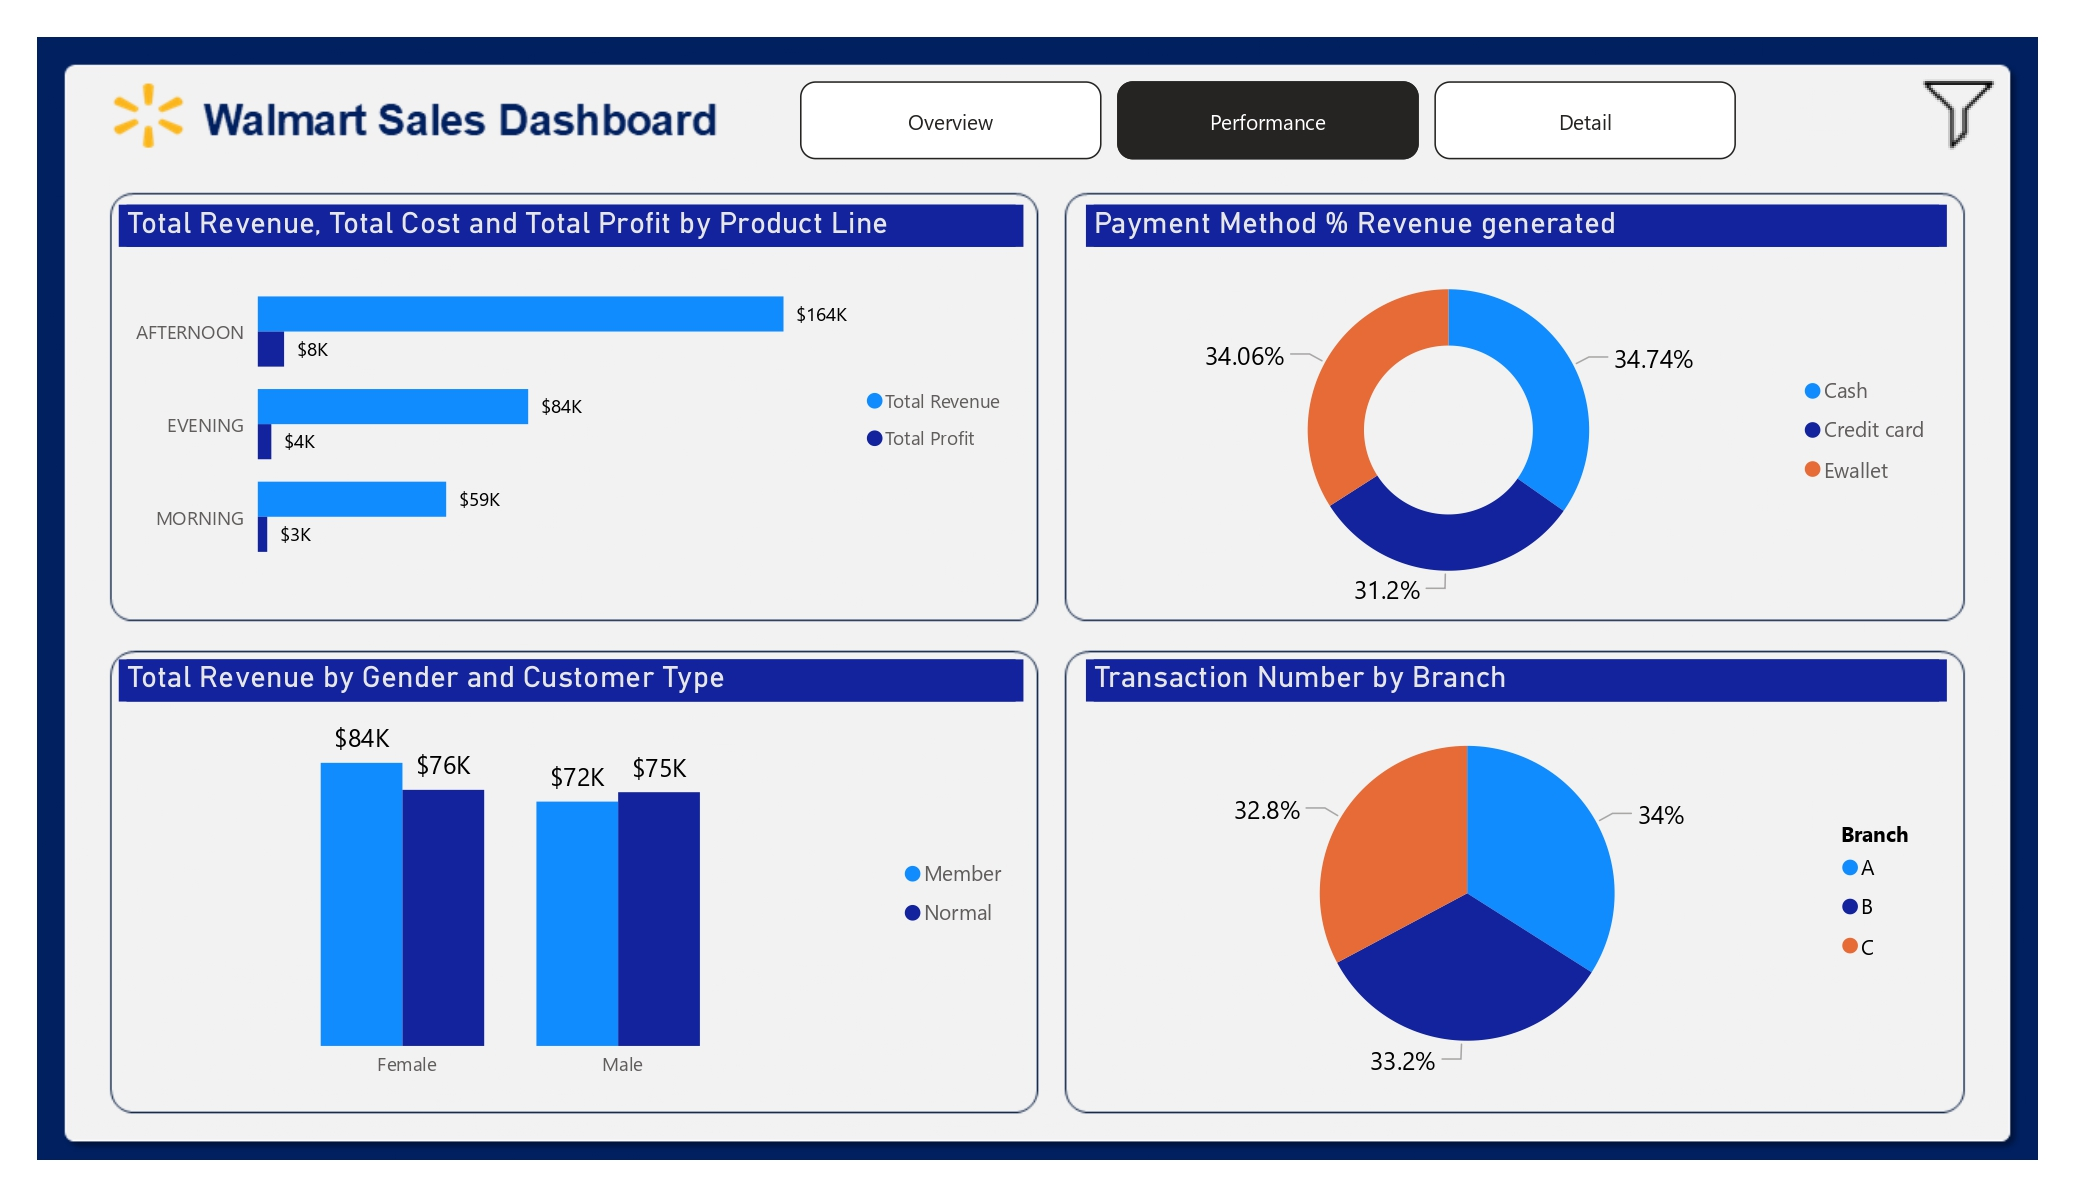

What the dashboard file says about the page in this screenshot:
{"tool":"powerbi","page":{"name":"Performance","canvas":[1280,720],"ordinal":1},"visuals":[{"type":"pageNavigator","box":[488.3,27.8,599.7,50.1],"z":0},{"type":"clusteredBarChart","title":"Total Revenue, Total Cost and Total Profit by Product Line","fields":{"Category":["walmart_sales_analysis_db ws.Period_of_day"],"Y":["_Measure.Total Revenue","_Measure.Total Profit"]},"box":[51.5,106.7,579.1,252.8],"z":2000},{"type":"donutChart","title":"Payment Method % Revenue generated","fields":{"Category":["walmart_sales_analysis_db ws.payment_method"],"Y":["_Measure.Total Revenue"]},"box":[671.2,106.7,550.9,266.3],"z":3000},{"type":"pieChart","fields":{"Y":["_Measure.Transaction Number"],"Category":["walmart_sales_analysis_db ws.Branch"]},"box":[671.2,397.5,550.9,277.3],"z":4000},{"type":"clusteredColumnChart","title":"Total Revenue by Gender and Customer Type ","fields":{"Category":["walmart_sales_analysis_db ws.Gender"],"Y":["_Measure.Total Revenue"],"Series":["walmart_sales_analysis_db ws.Customer_type"]},"box":[51.5,397.5,579.1,277.3],"z":5001},{"type":"actionButton","box":[1176.7,19.6,83.4,58.9],"z":5002}]}

Visuals, with their boxes in screenshot pixels (x1, y1, x2, y2):
pageNavigator: x1=800, y1=81, x2=1738, y2=159
"Total Revenue, Total Cost and Total Profit by Product Line" clusteredBarChart: x1=118, y1=204, x2=1023, y2=599
"Payment Method % Revenue generated" donutChart: x1=1086, y1=204, x2=1947, y2=620
pieChart - _Measure.Transaction Number x walmart_sales_analysis_db ws.Branch: x1=1086, y1=659, x2=1947, y2=1092
"Total Revenue by Gender and Customer Type " clusteredColumnChart: x1=118, y1=659, x2=1023, y2=1092
actionButton: x1=1876, y1=68, x2=2006, y2=160
